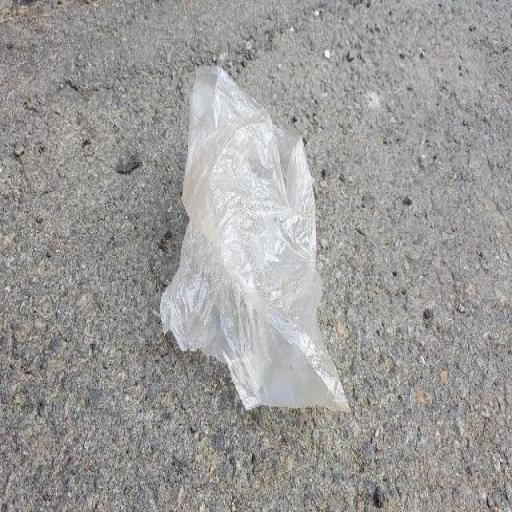plastic-bag: (155, 60, 352, 418)
